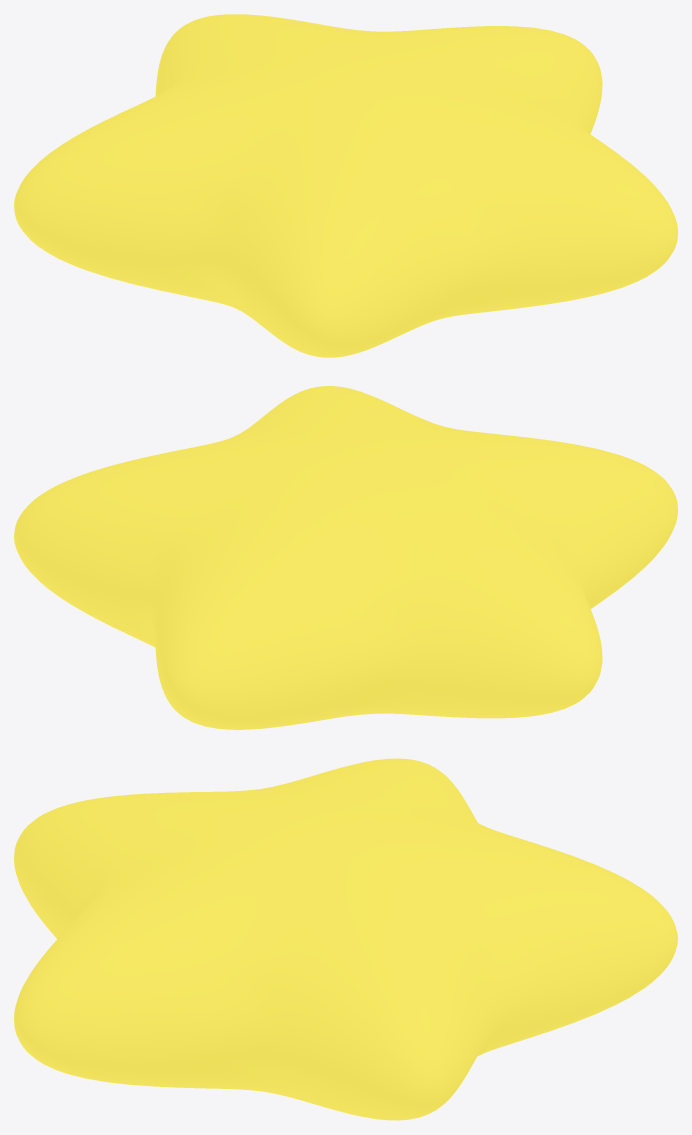
File: star15.glb
The picture shows the model from 3 angles, top to bottom: view 1: azimuth 30°, elevation 25°; view 2: azimuth 150°, elevation 25°; view 3: azimuth 270°, elevation 25°; orthographic projection. The views are drawn at different scales.
Visible parts, largest first — view 1: Star; view 2: Star; view 3: Star.
Boxes of the visible parts, x1,y1,x2,y2 form: Star: (14, 14, 677, 357); Star: (14, 386, 677, 729); Star: (14, 758, 677, 1120).
Bounding box in the file's own units: 2.72 × 1.01 × 2.6.
